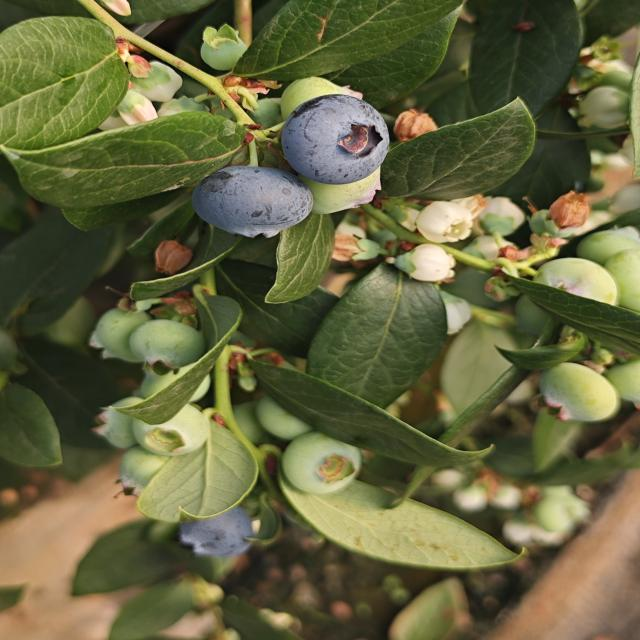ripe: (280, 91, 388, 180), (198, 162, 310, 237), (184, 514, 252, 552)
